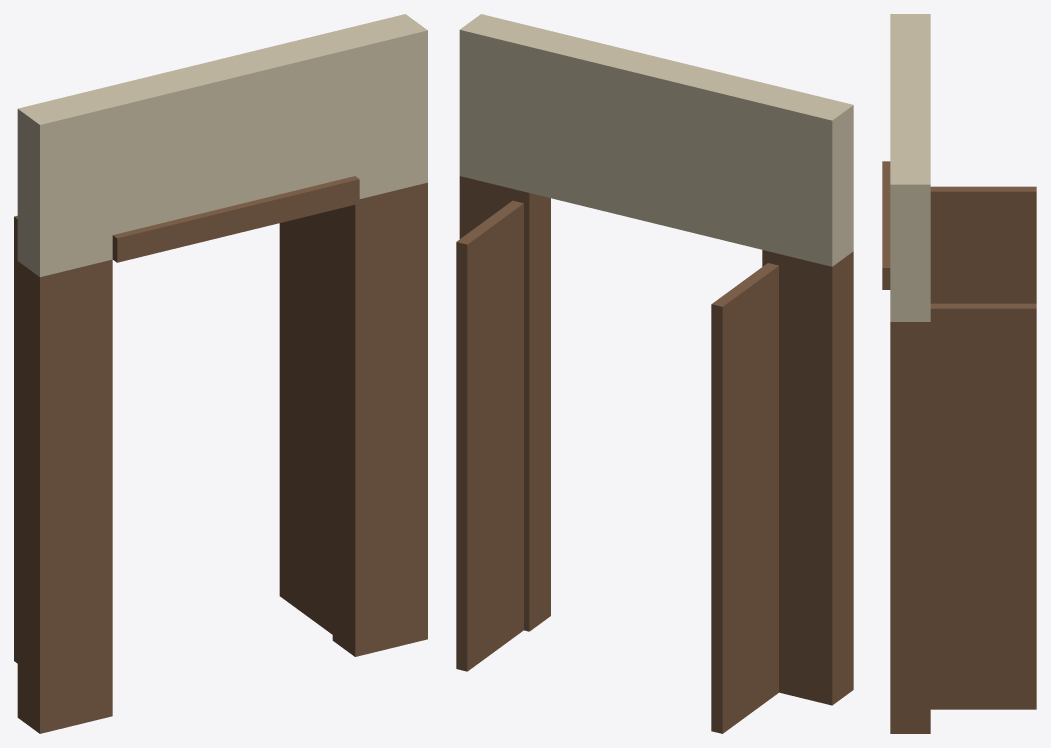
The model's file is door_open_2m.glb.
3 views of the same model, side by side, from view 1: azimuth 30°, elevation 25°; view 2: azimuth 150°, elevation 25°; view 3: azimuth 270°, elevation 25° (orthographic). The views are drawn at different scales.
Visible parts, largest first — view 1: Lintel, JambLeft, JambRight, FoldedLeafRight, HeaderTrim, FoldedLeafLeft; view 2: Lintel, JambLeft, FoldedLeafRight, FoldedLeafLeft, JambRight; view 3: FoldedLeafRight, JambRight, Lintel, FoldedLeafLeft, HeaderTrim.
Boxes of the visible parts, x1,y1,x2,y2 form: Lintel: [17, 14, 427, 276]; JambLeft: [17, 259, 112, 733]; JambRight: [332, 182, 427, 656]; FoldedLeafRight: [279, 210, 332, 634]; HeaderTrim: [112, 176, 359, 262]; FoldedLeafLeft: [14, 215, 17, 663]; Lintel: [459, 14, 853, 266]; JambLeft: [762, 250, 853, 705]; FoldedLeafRight: [456, 200, 523, 671]; FoldedLeafLeft: [711, 263, 778, 733]; JambRight: [459, 176, 550, 631]; FoldedLeafRight: [930, 303, 1036, 709]; JambRight: [890, 322, 930, 733]; Lintel: [890, 14, 930, 321]; FoldedLeafLeft: [930, 186, 1036, 303]; HeaderTrim: [882, 161, 890, 289].
Bounding box in the file's own units: 2 × 3 × 0.765.
